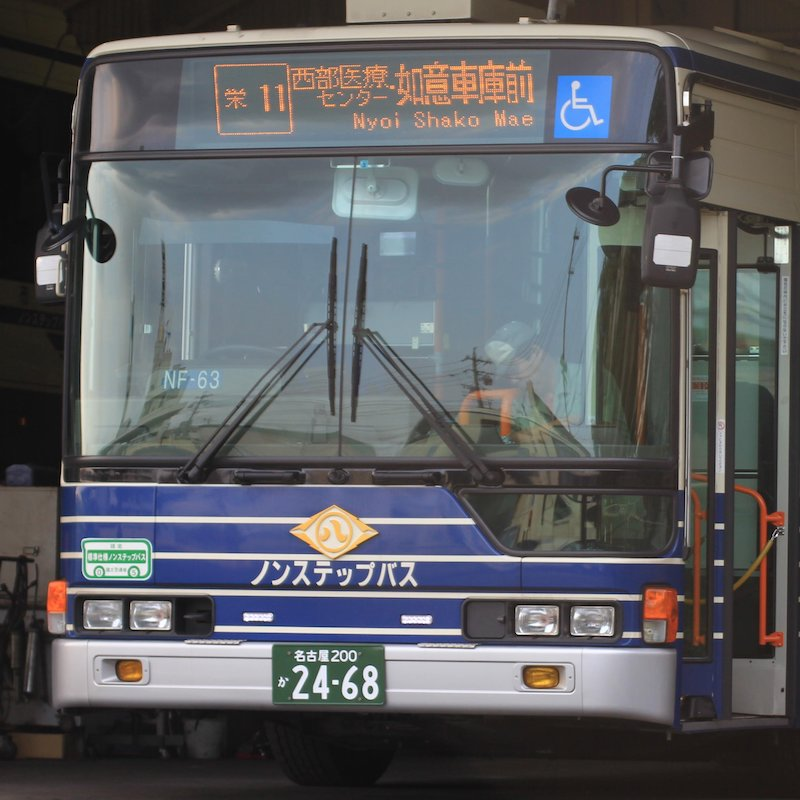destination: (172, 48, 548, 148)
